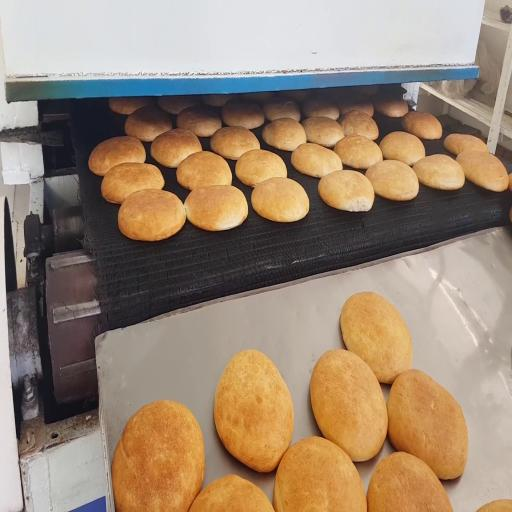bread: (112, 401, 204, 511), (214, 350, 293, 472), (387, 370, 468, 479), (310, 350, 387, 461), (274, 437, 366, 511), (341, 293, 412, 383), (368, 452, 452, 511), (118, 189, 185, 241), (190, 475, 273, 511), (184, 185, 247, 231), (101, 163, 164, 203), (252, 178, 309, 222), (319, 170, 374, 211), (89, 137, 146, 176), (366, 160, 418, 201), (457, 151, 509, 191), (177, 152, 231, 190), (151, 129, 202, 167), (235, 150, 287, 187), (413, 155, 464, 190), (291, 143, 342, 177), (334, 135, 382, 170), (125, 106, 172, 141), (211, 127, 259, 160), (380, 132, 425, 165), (262, 118, 306, 151), (177, 107, 221, 137), (222, 99, 264, 129), (302, 117, 344, 147), (339, 110, 378, 140), (402, 111, 442, 139), (444, 134, 489, 155), (263, 96, 300, 121), (302, 96, 339, 120), (338, 95, 374, 118), (158, 95, 200, 114), (109, 97, 153, 115), (373, 96, 408, 118), (201, 94, 234, 107), (279, 90, 311, 103), (241, 92, 275, 104), (478, 500, 511, 511), (351, 85, 378, 96), (509, 173, 511, 191)
